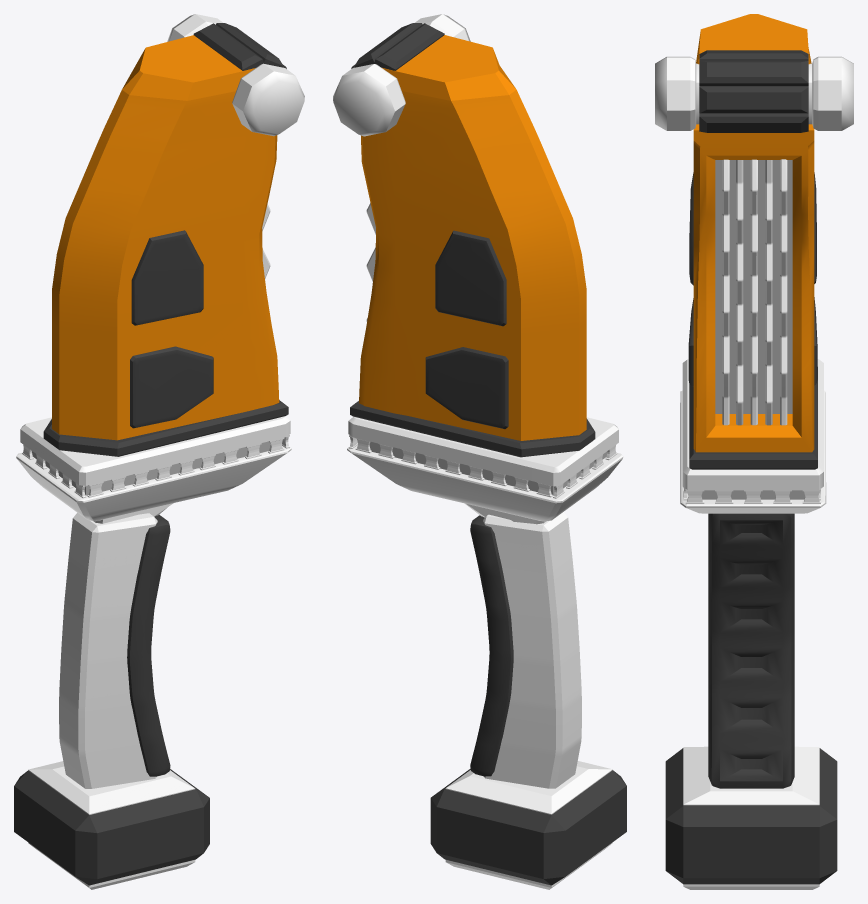
File: Sander.fbx
3 renders of one model, left to right at view 1: azimuth 30°, elevation 25°; view 2: azimuth 150°, elevation 25°; view 3: azimuth 270°, elevation 25°, orthographic. The views are drawn at different scales.
Visible parts, largest first — view 1: Sander; view 2: Sander; view 3: Sander.
Part boxes in pixels (x1,y1,x2,y2): Sander: (14,14,304,889); Sander: (333,14,626,889); Sander: (655,14,853,889).
Bounding box in the file's own units: 0.6317 × 2.11 × 0.4335.
